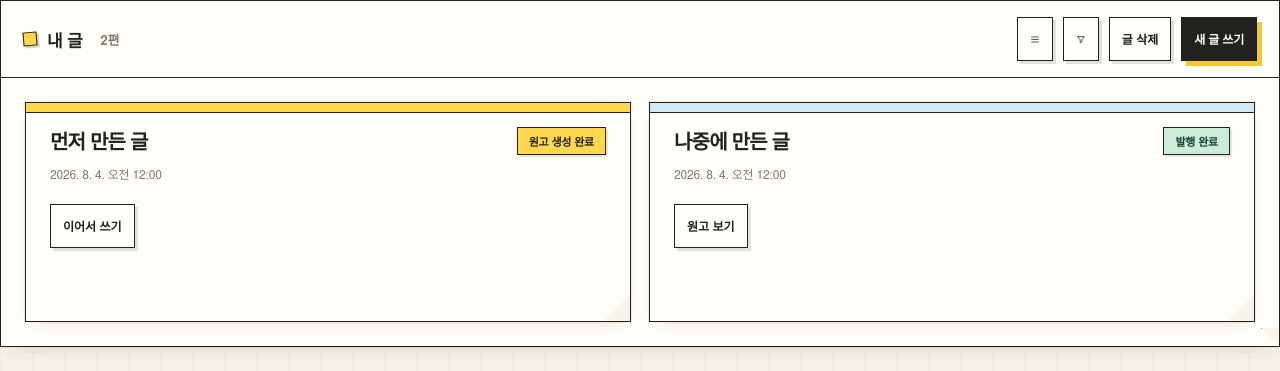
it: PostsView 보기 방식과 필터 › 고른 보기 방식은 화면을 다시 열어도 남는다
The image size is (1280, 371).
Click the button named "리스트로 보기" at [1035, 39], box [1017,17,1053,61]
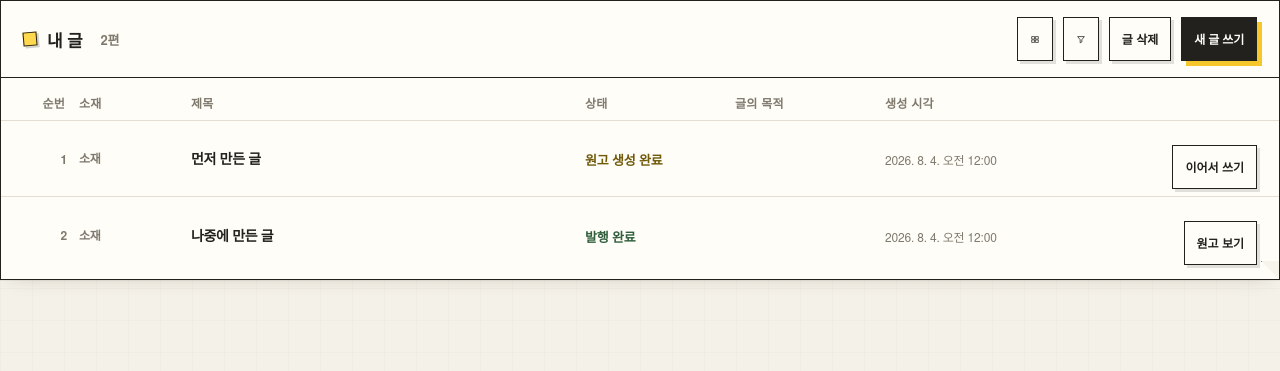
Check: the list is shown, box [1,121,1279,273]
